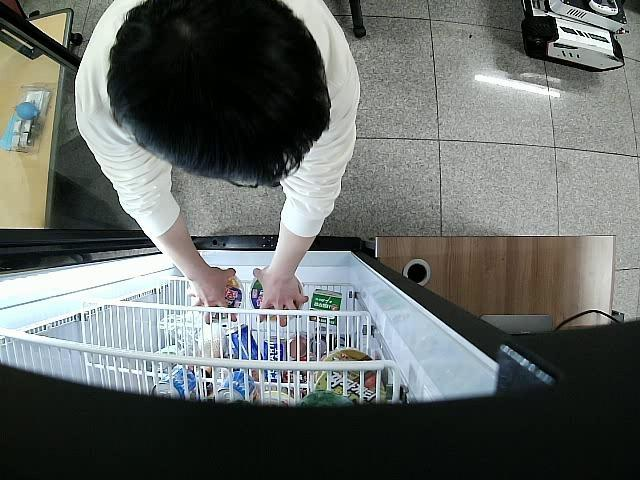09_yukGaeJang: (249, 277, 305, 324), (198, 271, 246, 325)
